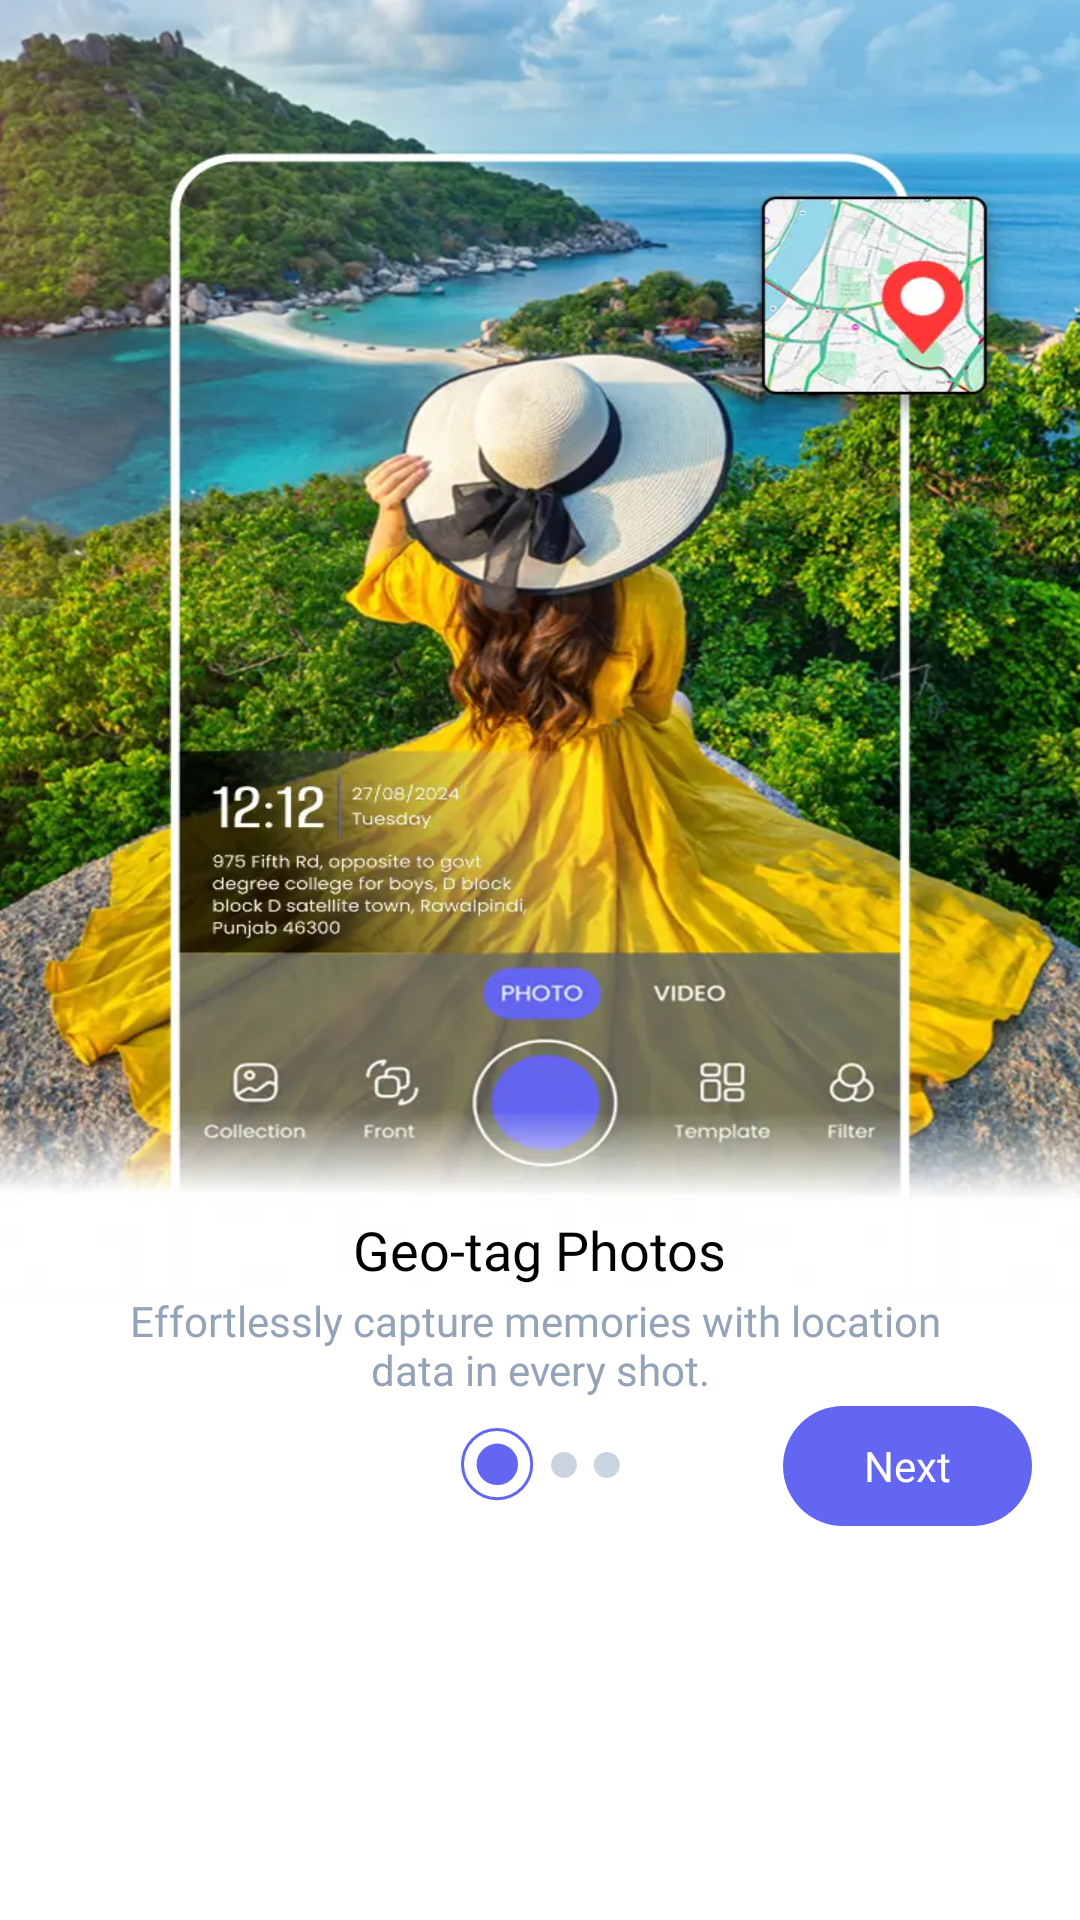

Icon click points for this 1080×1920 phone screenshot, format [x,y]:
indicator next: [540,1464]
